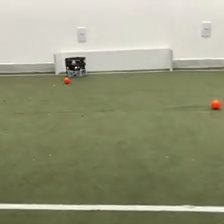ball: (210, 96, 221, 110), (62, 75, 71, 84)
goal: (52, 46, 175, 76)
robot: (63, 54, 88, 77)
